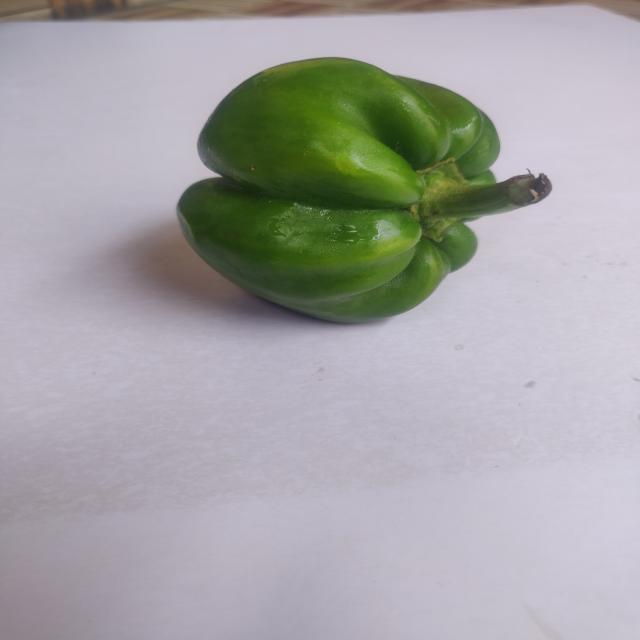Capsicum: (158, 46, 563, 342)
